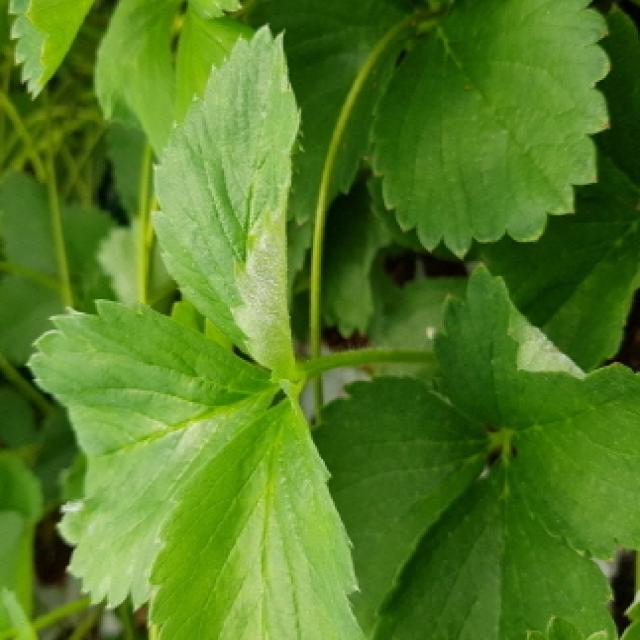Powdery Mildew Leaf: (148, 20, 303, 375)
